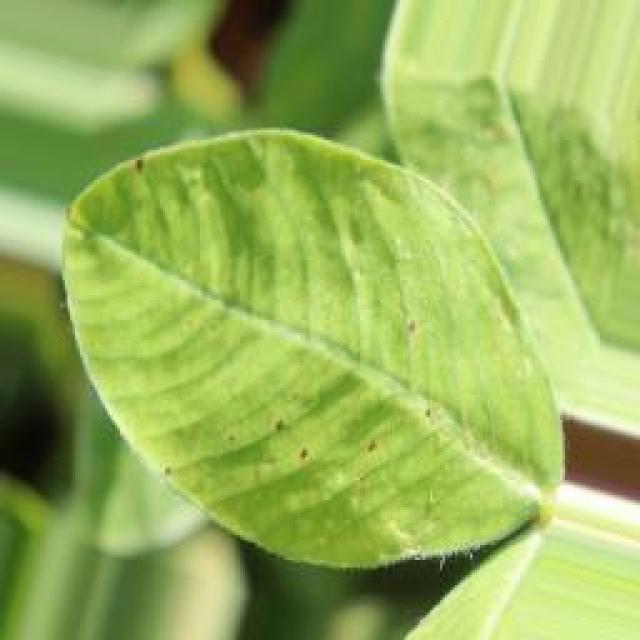Sigatoka: (249, 418, 310, 486), (120, 137, 168, 199), (149, 459, 205, 503), (344, 442, 414, 464), (406, 305, 430, 363)
